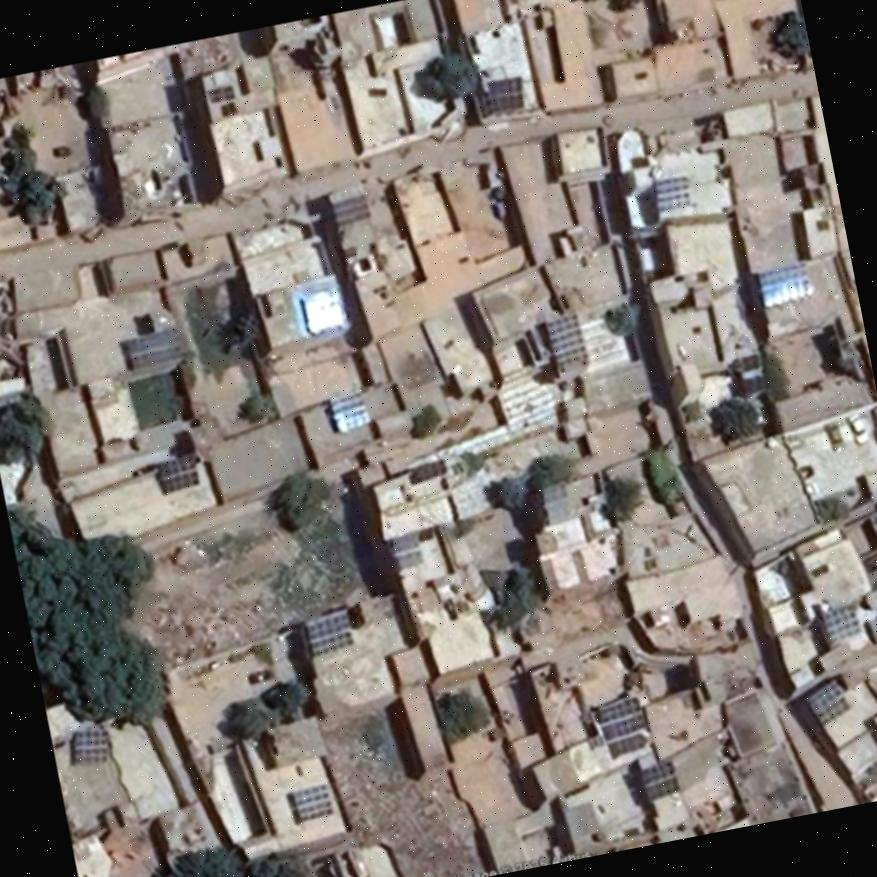Solarpanel: (548, 313, 590, 366), (760, 265, 808, 306), (303, 286, 342, 333), (306, 613, 351, 653), (806, 678, 848, 720), (154, 452, 198, 490), (291, 782, 333, 819), (331, 390, 369, 430), (820, 604, 860, 641), (653, 174, 690, 212), (69, 729, 106, 762), (595, 695, 640, 721), (485, 78, 518, 112), (602, 714, 645, 736), (636, 761, 675, 784), (610, 733, 649, 754), (646, 776, 676, 800)
